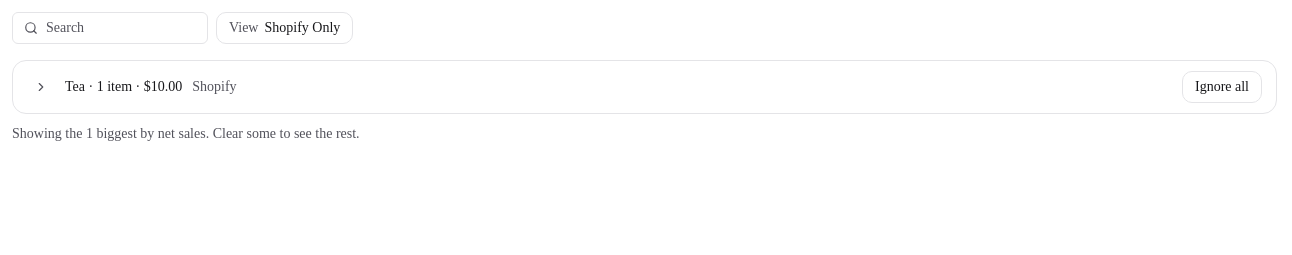
it: catalog view filter › filters review rows by channel on the provider tabs
Click the button named "Expand group". click: {"x": 41, "y": 87}
box: [27,73,55,101]
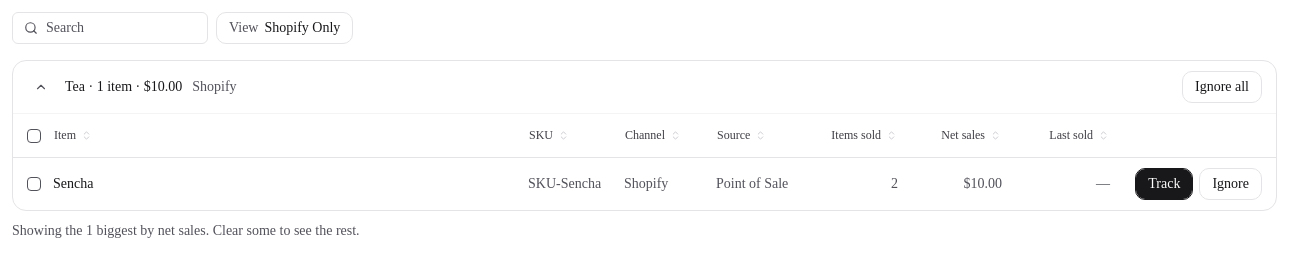
Expected: the text "Sencha" is shown, [53,176,93,191]
